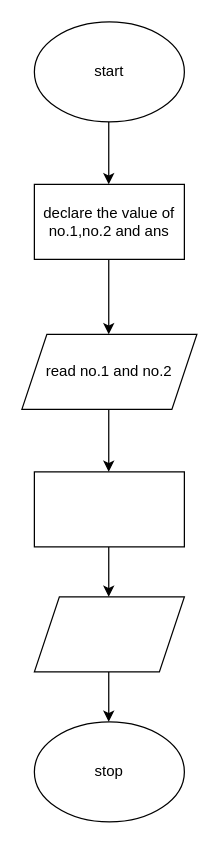
Image size: 219x844. Some labels were removed from this diagram. Each missing label, with the centre of its shape:
"addition of no.1 and no.2" belongs at (108,509).
"print ans" belongs at (108,634).
